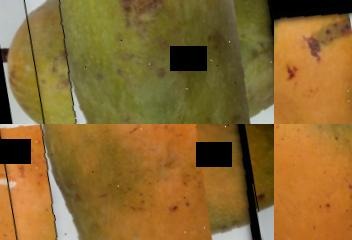PartiallyRipe: (0, 124, 267, 240)
Ripe: (274, 0, 352, 124), (274, 124, 352, 240)
Unripe: (16, 0, 274, 124)
